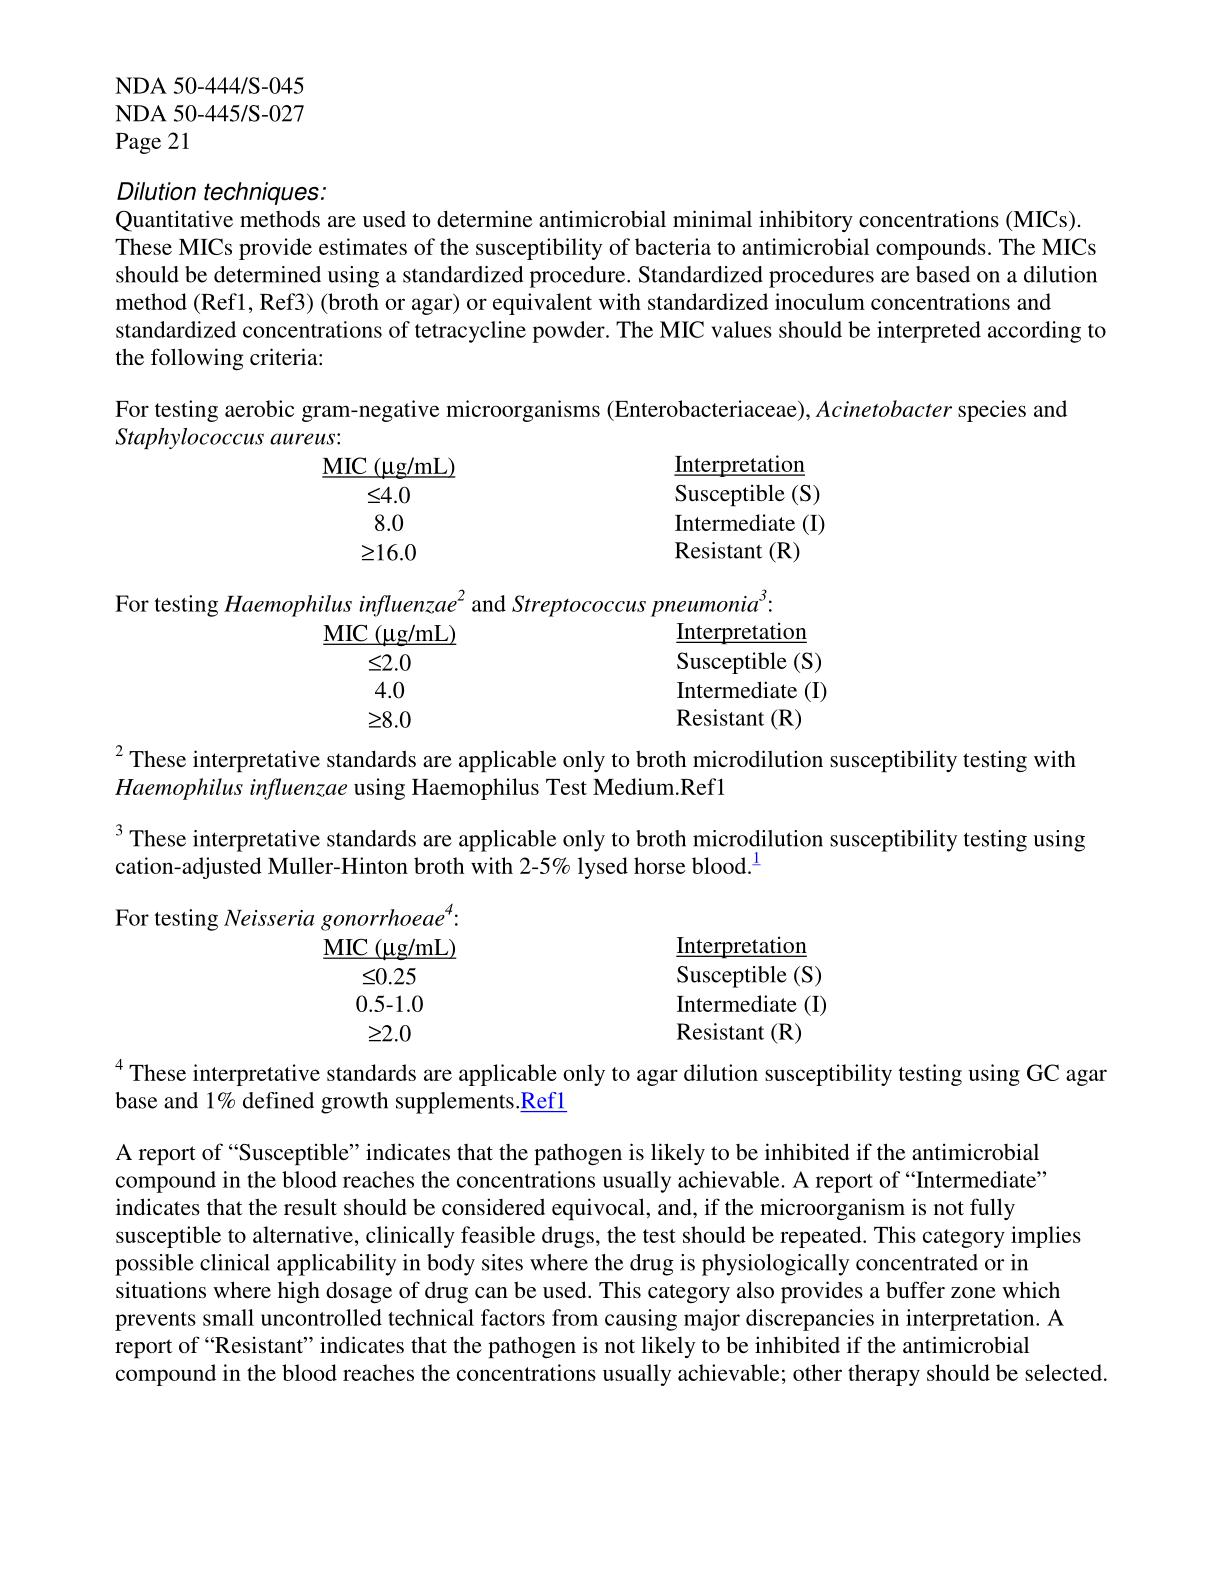nolines: (321, 937, 828, 1044), (320, 624, 829, 729), (321, 455, 824, 561)
